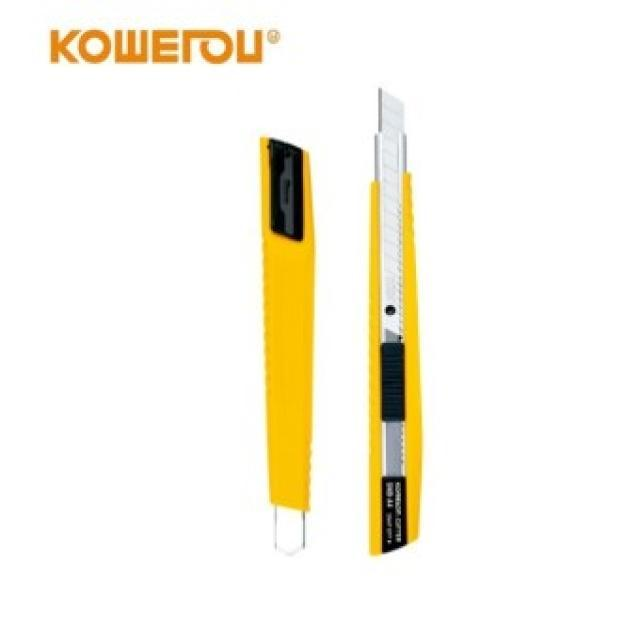cutter: (356, 77, 424, 559), (250, 125, 320, 562)
